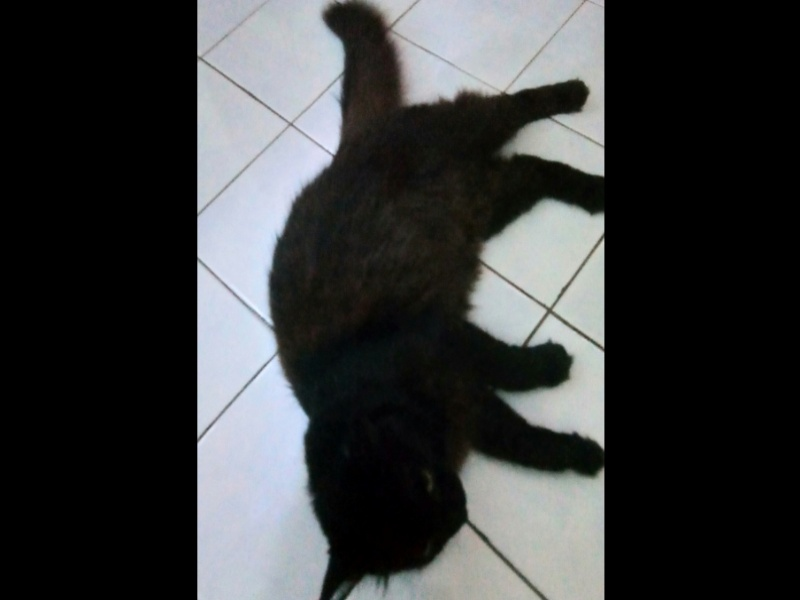cat: (271, 5, 603, 593)
